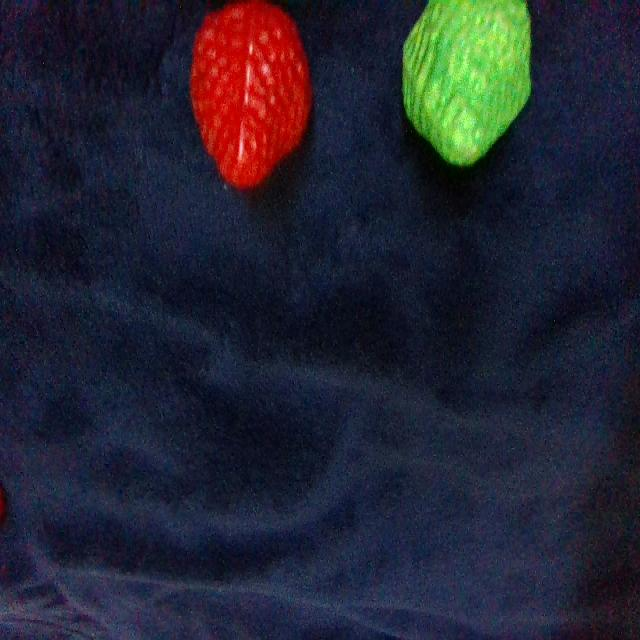chica_roja: (190, 0, 312, 188)
verde: (402, 0, 530, 165)
